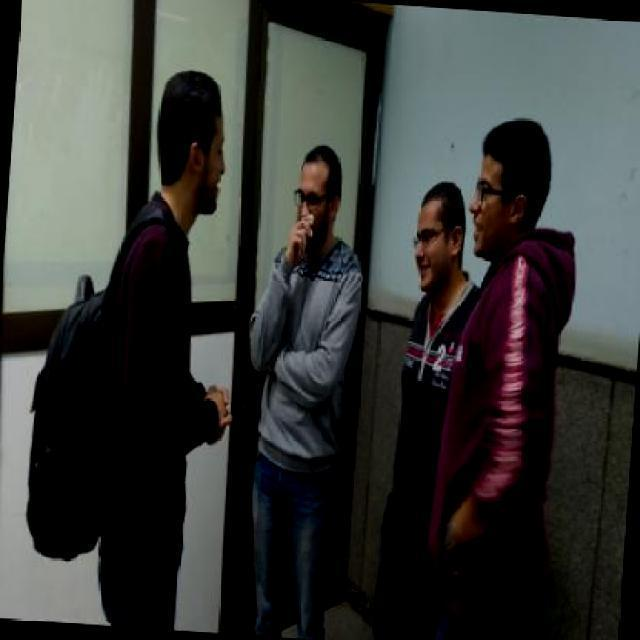non-fight: (366, 107, 585, 638), (82, 58, 250, 632), (227, 136, 376, 638)
